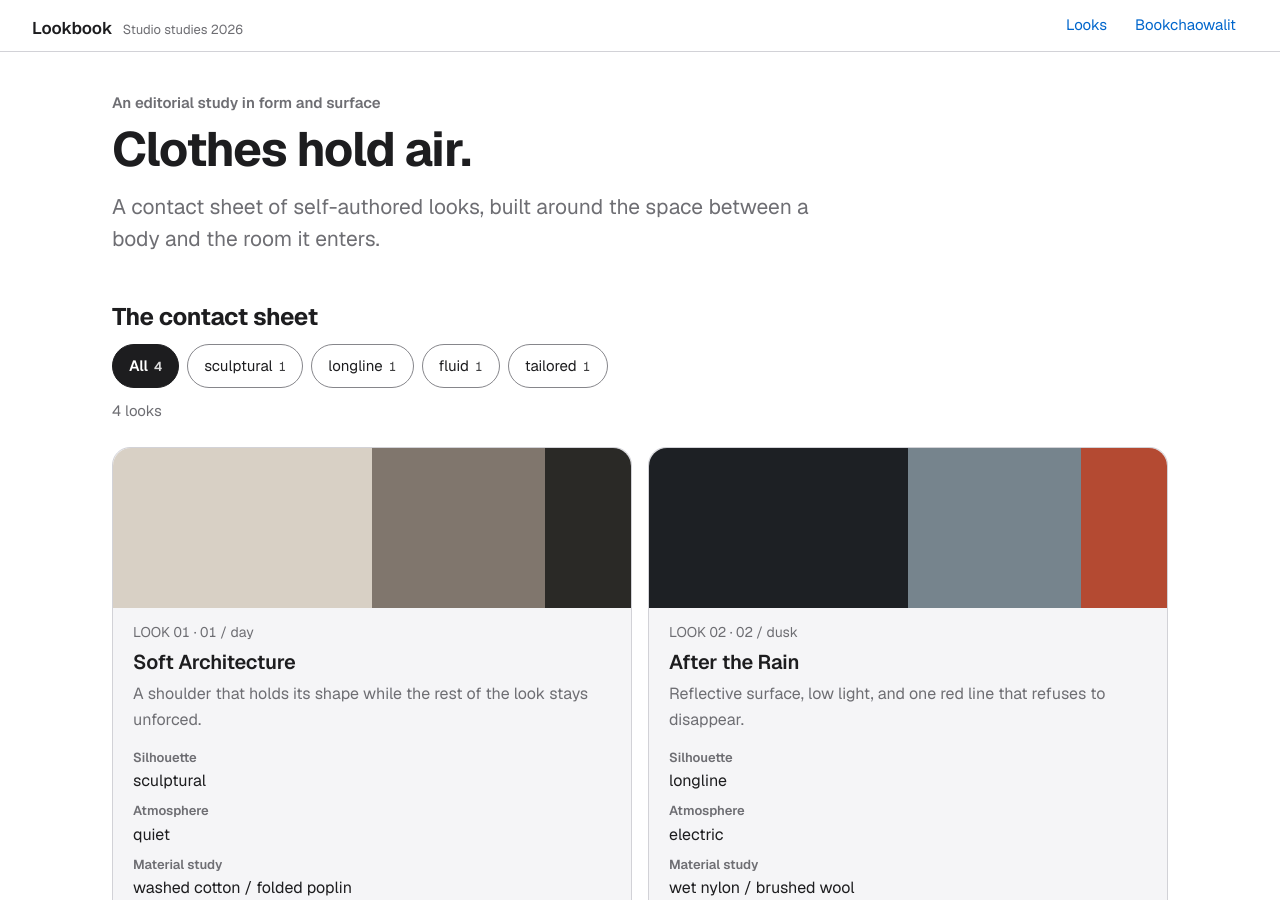
Test: home page (mounted) › filters by silhouette with a pressed chip and a count
Click the button "fluid 1" at (461, 366), box [422, 344, 500, 388]
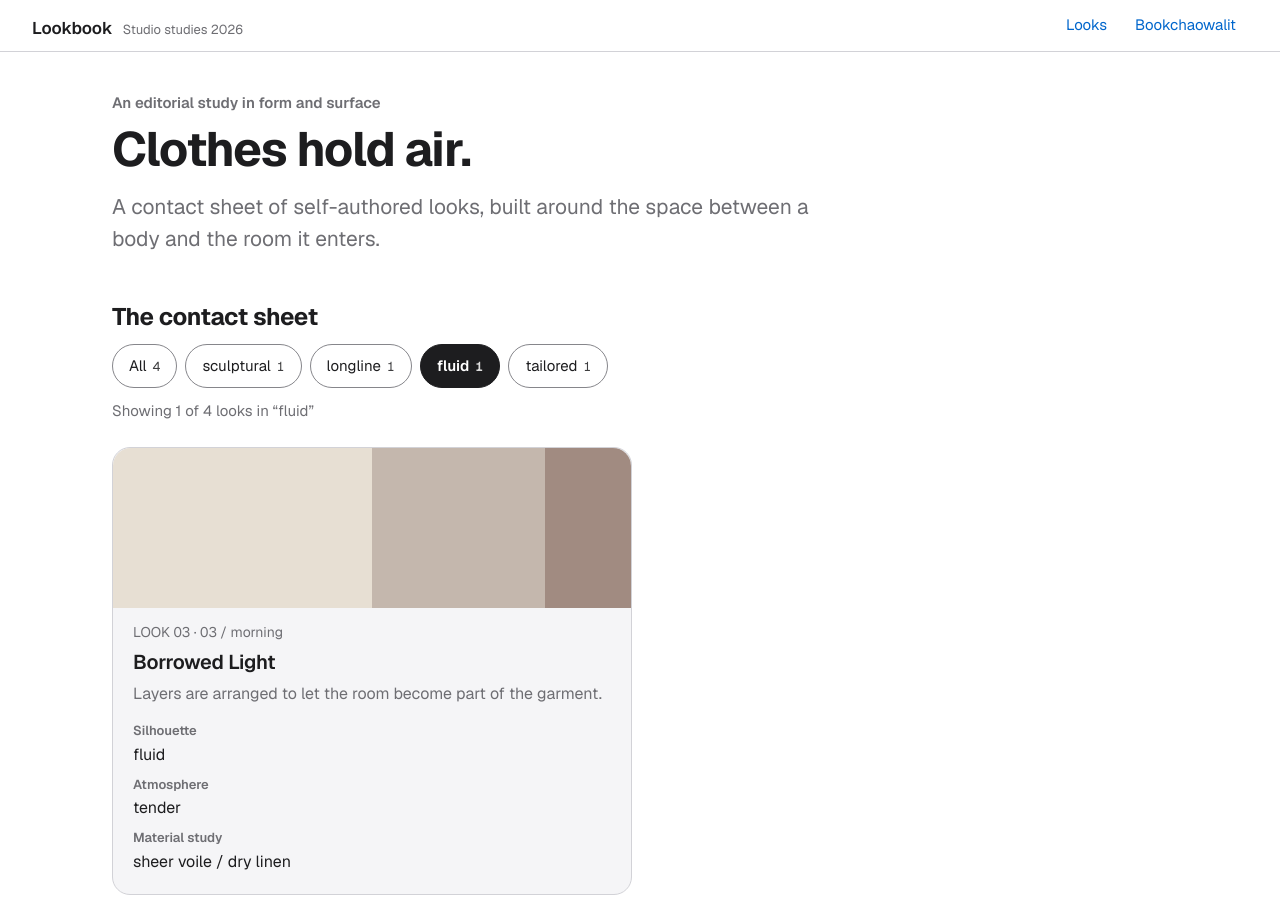
Expected: the message with class "rs-count" reads "Showing 1 of 4 looks in “fluid”", [112, 401, 314, 420]
Click the button "All 4" at (145, 366), box [112, 344, 177, 388]
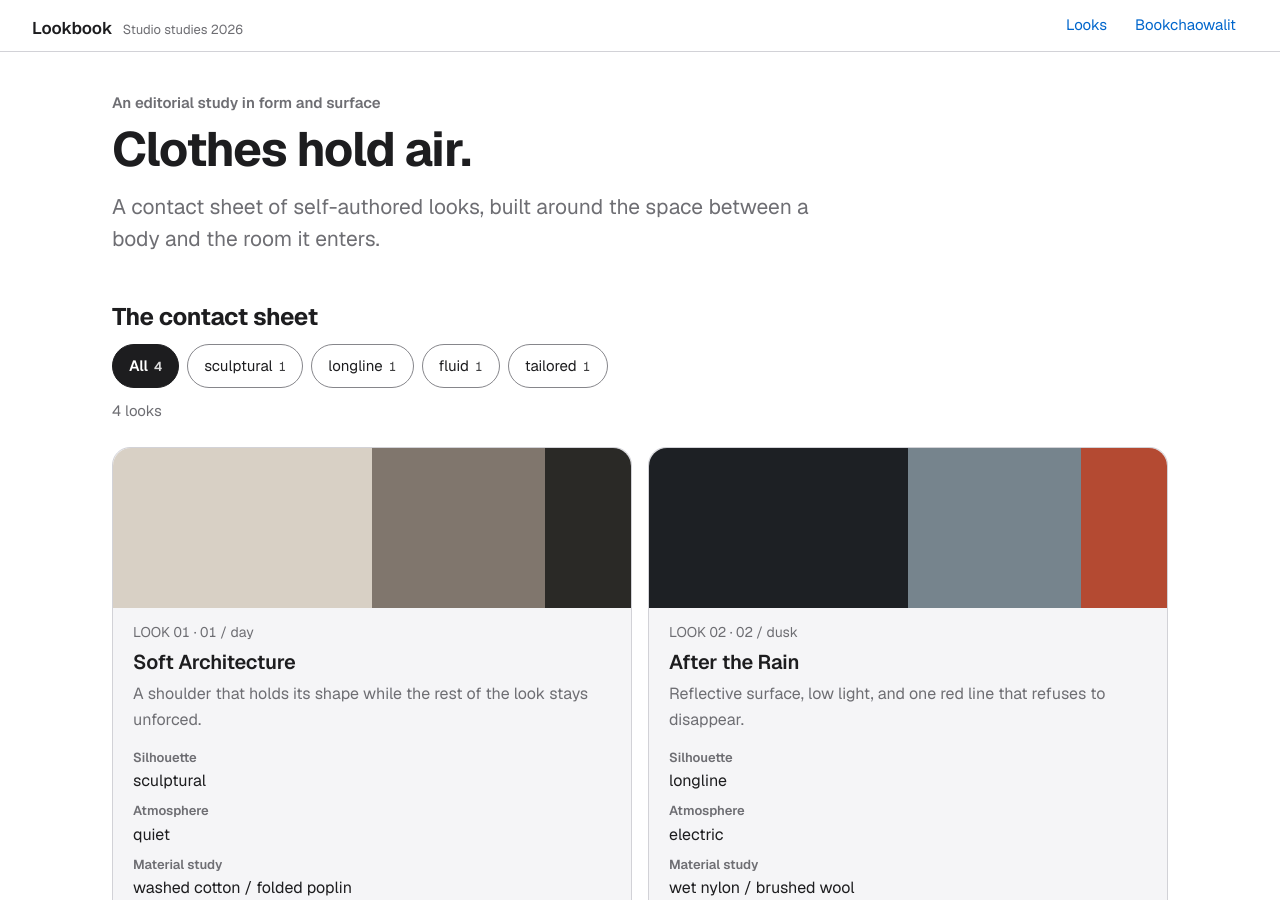
Expected: the message with class "rs-count" reads "4 looks", [112, 401, 162, 420]
